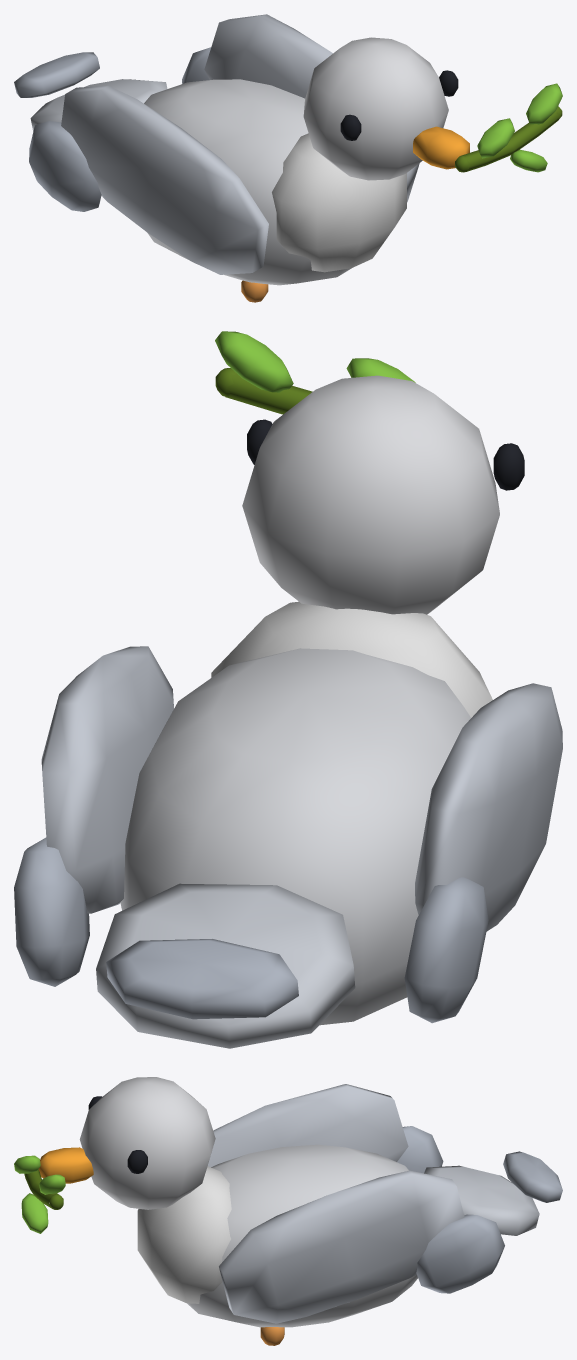
File: head_bxdove.glb
The picture shows the model from 3 angles, top to bottom: view 1: azimuth 30°, elevation 25°; view 2: azimuth 150°, elevation 25°; view 3: azimuth 270°, elevation 25°; orthographic projection. The views are drawn at different scales.
Parts seen in each view (by area): view 1: bxdove; view 2: bxdove; view 3: bxdove.
Boxes of the visible parts, x1=… form: bxdove: x1=14, y1=14, x2=562, y2=302; bxdove: x1=14, y1=331, x2=562, y2=1048; bxdove: x1=14, y1=1077, x2=562, y2=1345.
Size of the model in its own units: 1.41 by 1.15 by 2.17.
